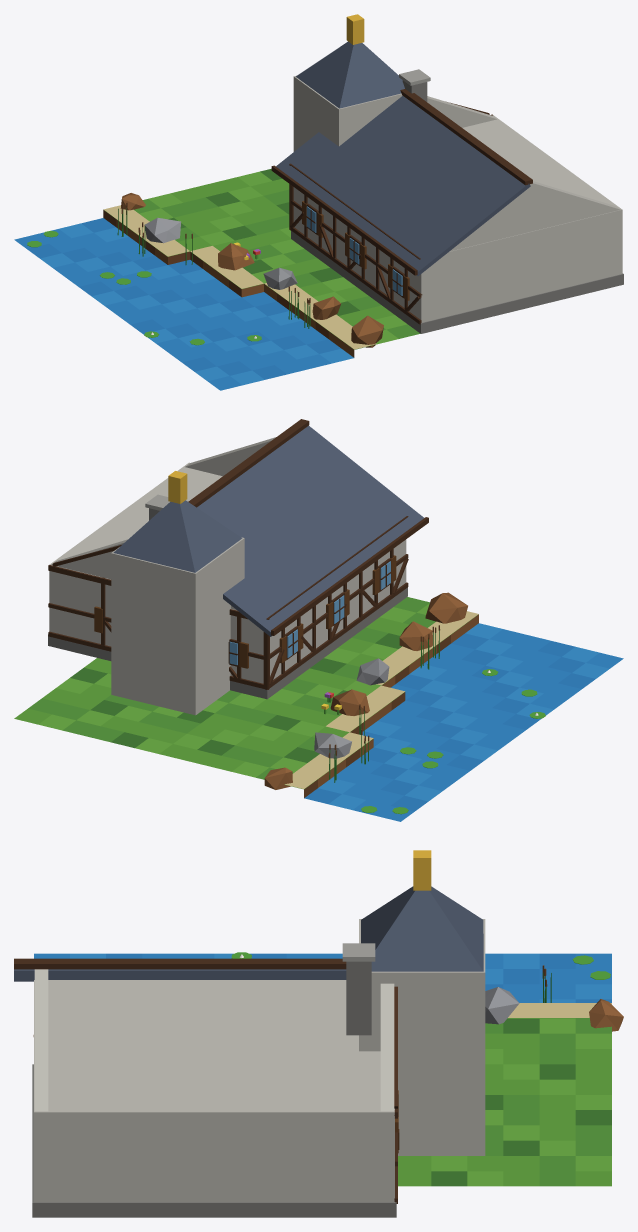
The model's file is chunk_0_9.glb.
The picture shows the model from 3 angles, top to bottom: view 1: azimuth 30°, elevation 25°; view 2: azimuth 150°, elevation 25°; view 3: azimuth 270°, elevation 25°; orthographic projection. The views are drawn at different scales.
Parts seen in each view (by area): view 1: chunk_0_9; view 2: chunk_0_9; view 3: chunk_0_9.
Part boxes in pixels (bbox=[...]): chunk_0_9: bbox=[14, 14, 623, 390]; chunk_0_9: bbox=[14, 419, 623, 821]; chunk_0_9: bbox=[14, 850, 623, 1217].
Size of the model in its own units: 18.08 by 8.86 by 16.89.
